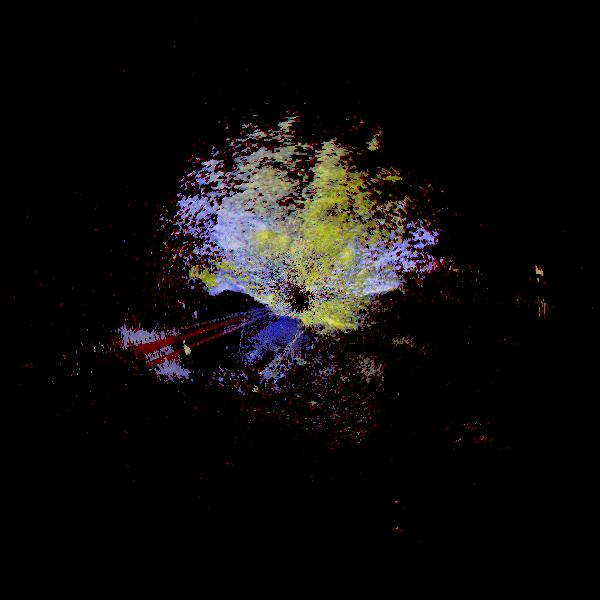roost: (152, 327, 194, 369)
